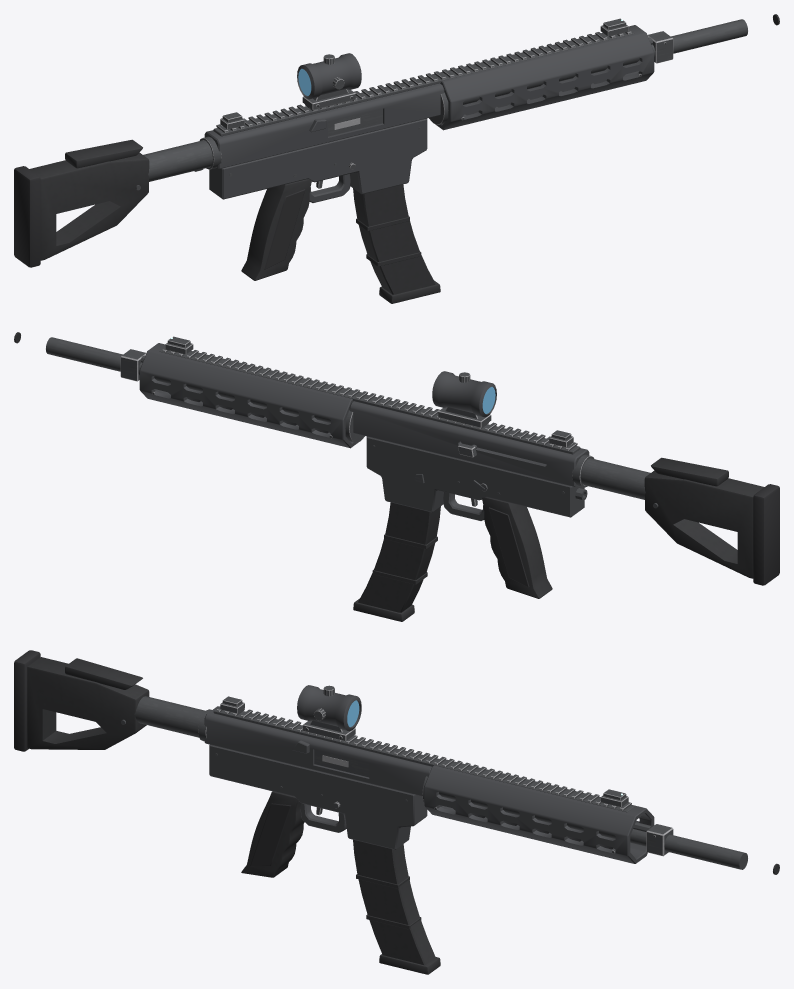
Rendered from w_rifle.glb.
The picture shows the model from 3 angles, top to bottom: view 1: azimuth 30°, elevation 25°; view 2: azimuth 150°, elevation 25°; view 3: azimuth 330°, elevation 25°; orthographic projection.
Parts seen in each view (by area): view 1: W_rifle; view 2: W_rifle; view 3: W_rifle.
Boxes of the visible parts, x1,y1,x2,y2 form: W_rifle: [14, 14, 779, 303]; W_rifle: [14, 332, 779, 621]; W_rifle: [14, 650, 779, 974].
Bounding box in the file's own units: 0.9374 × 0.3047 × 0.0608.
7 materials, 3 textured.
